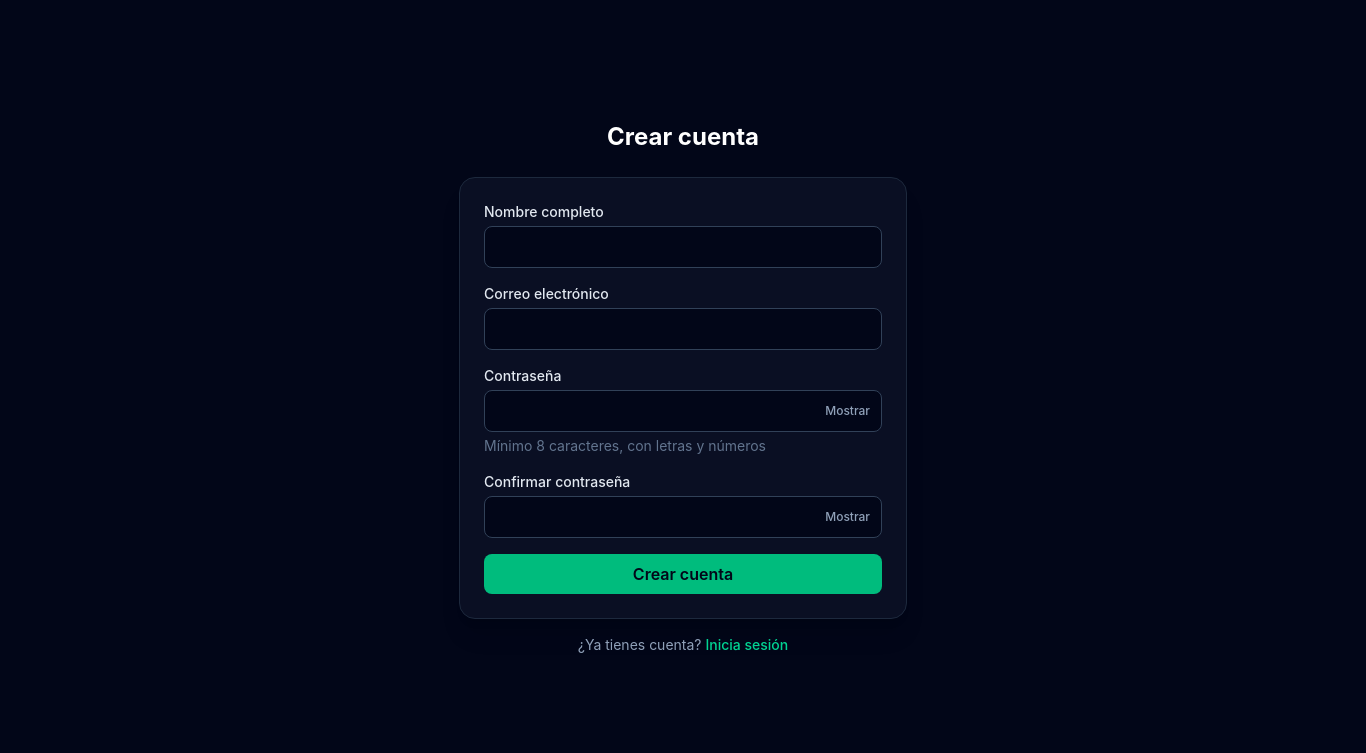
Test: rutas y sesión › registrarse desde la interfaz lleva al dashboard con saldo $0.00
In the field labelled "Nombre completo": {"x": 683, "y": 247} [484,226,882,268], type "Ana Pérez"
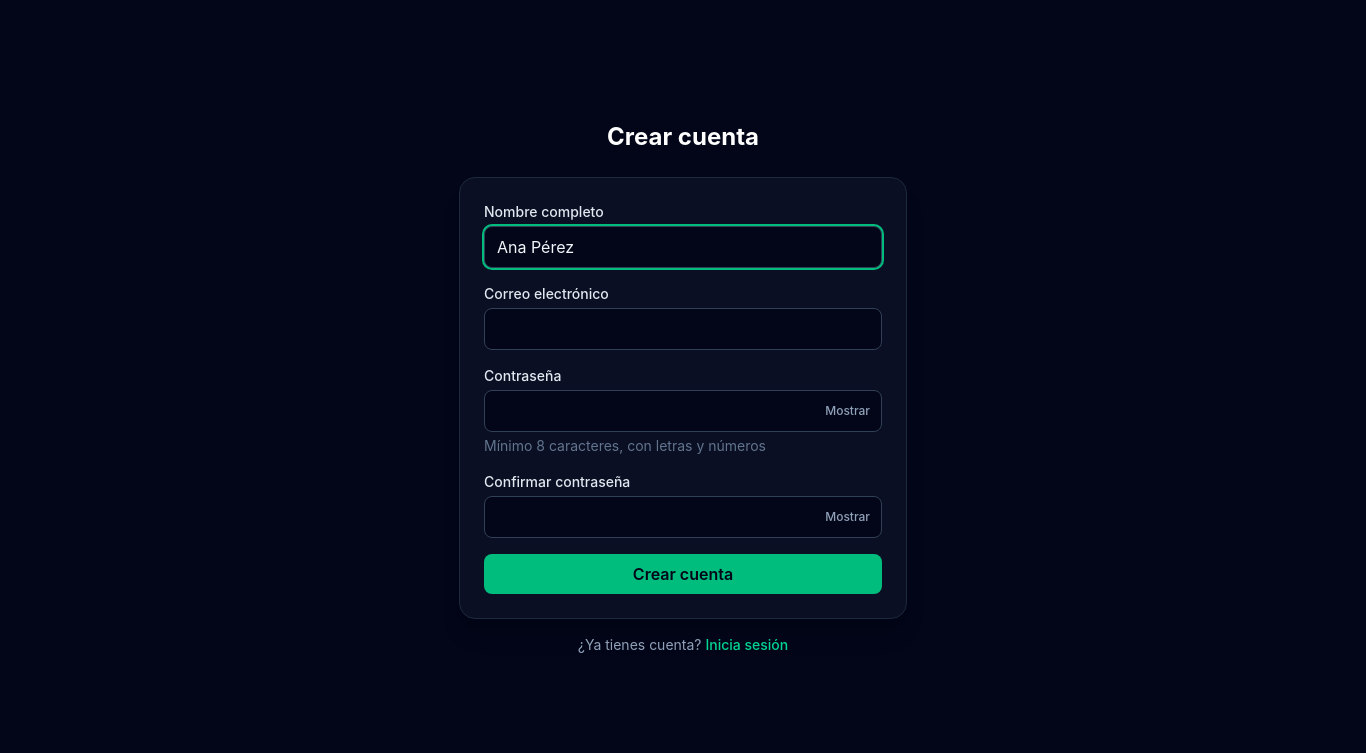
In the field labelled "Correo electrónico": {"x": 683, "y": 329} [484,308,882,350], type "ana@example.com"
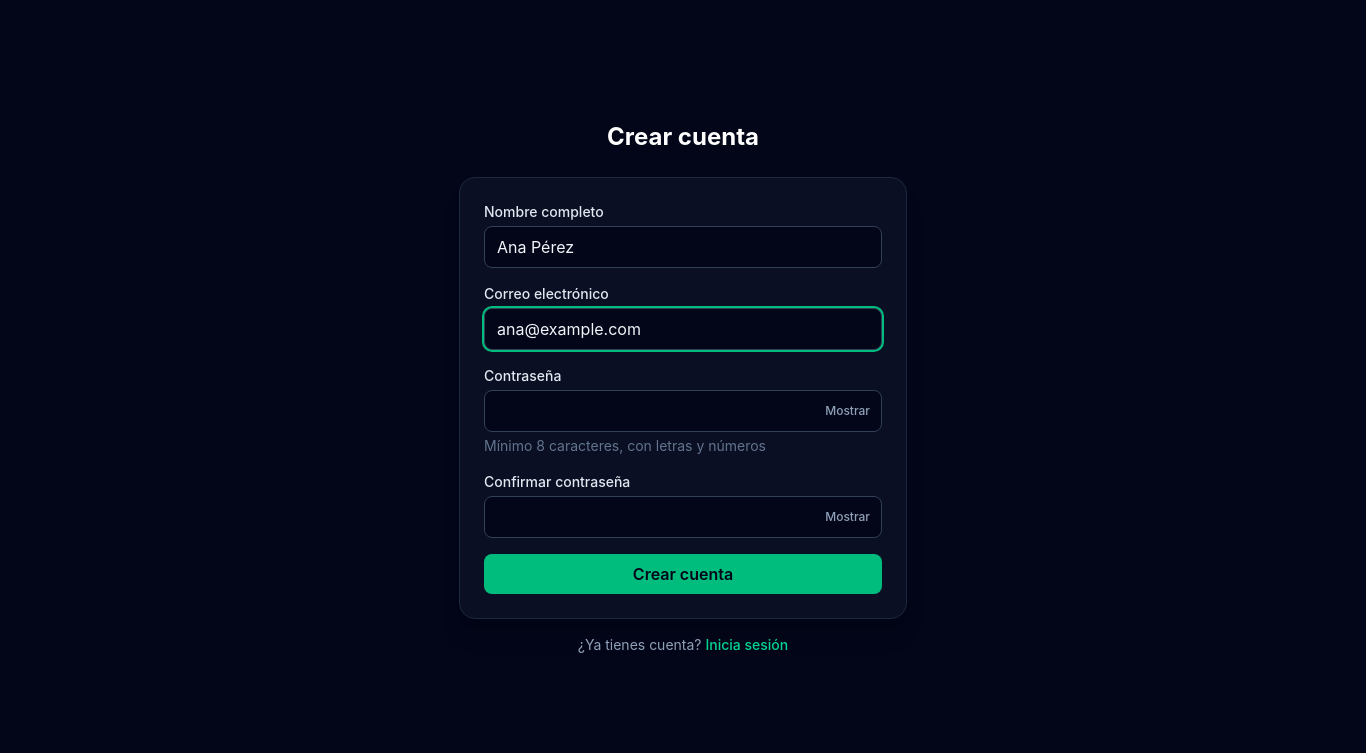
In the password field labelled "Contraseña": {"x": 683, "y": 411} [484,390,882,432], type "Caracol123"
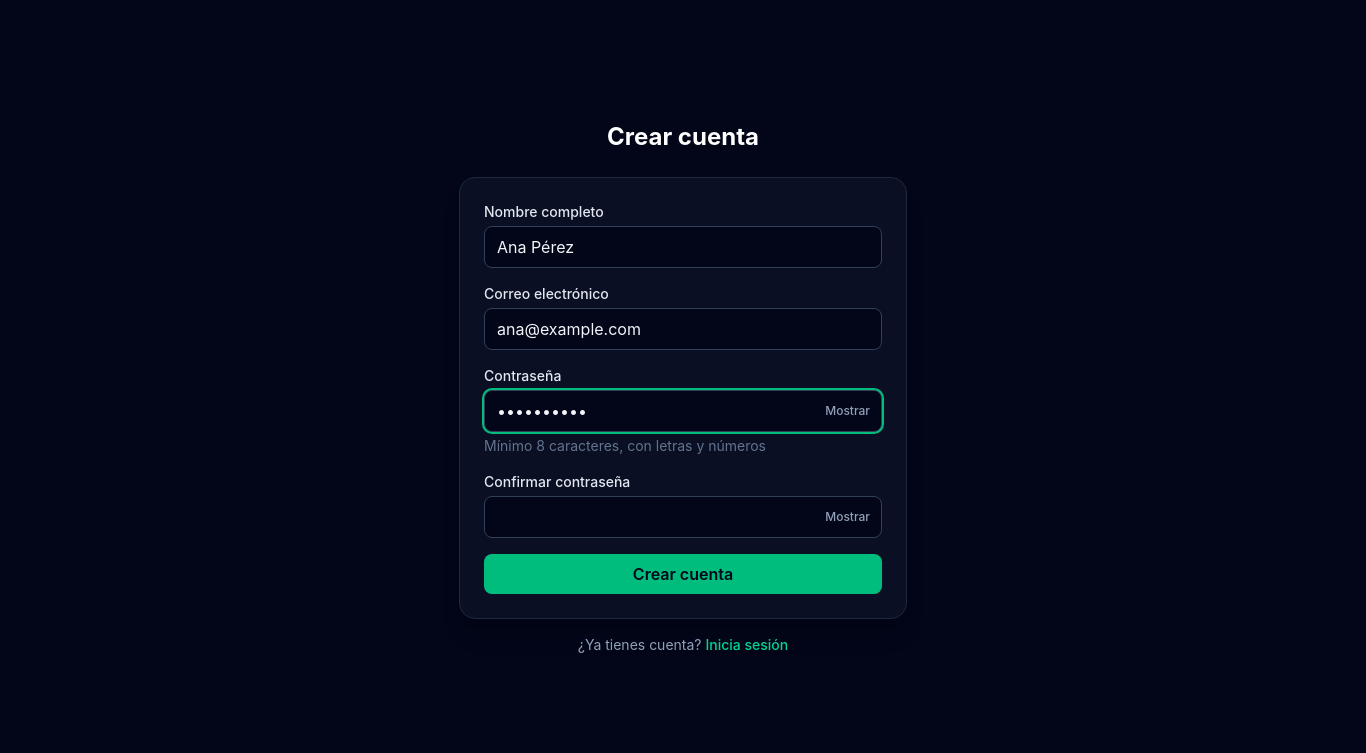
In the password field labelled "Confirmar contraseña": {"x": 683, "y": 517} [484,496,882,538], type "Caracol123"
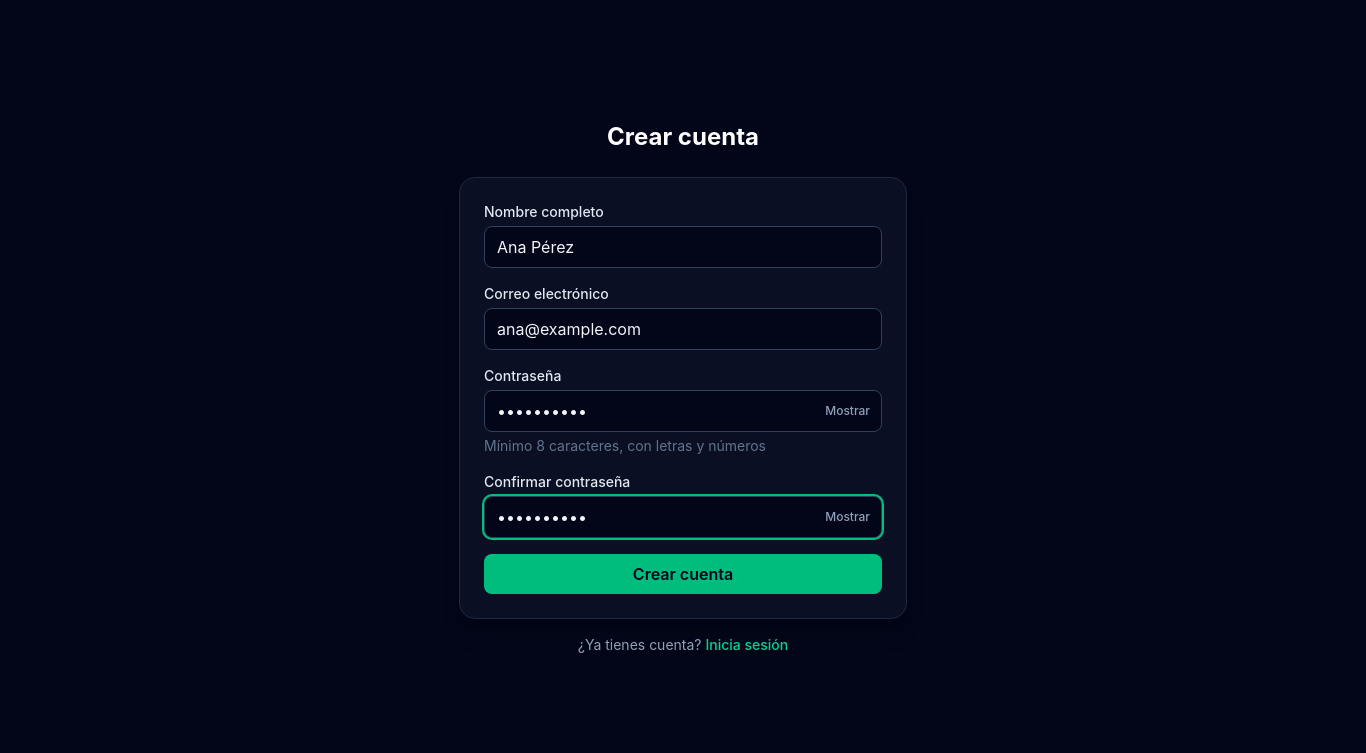
Click the button "Crear cuenta": {"x": 683, "y": 574} [484,554,882,594]
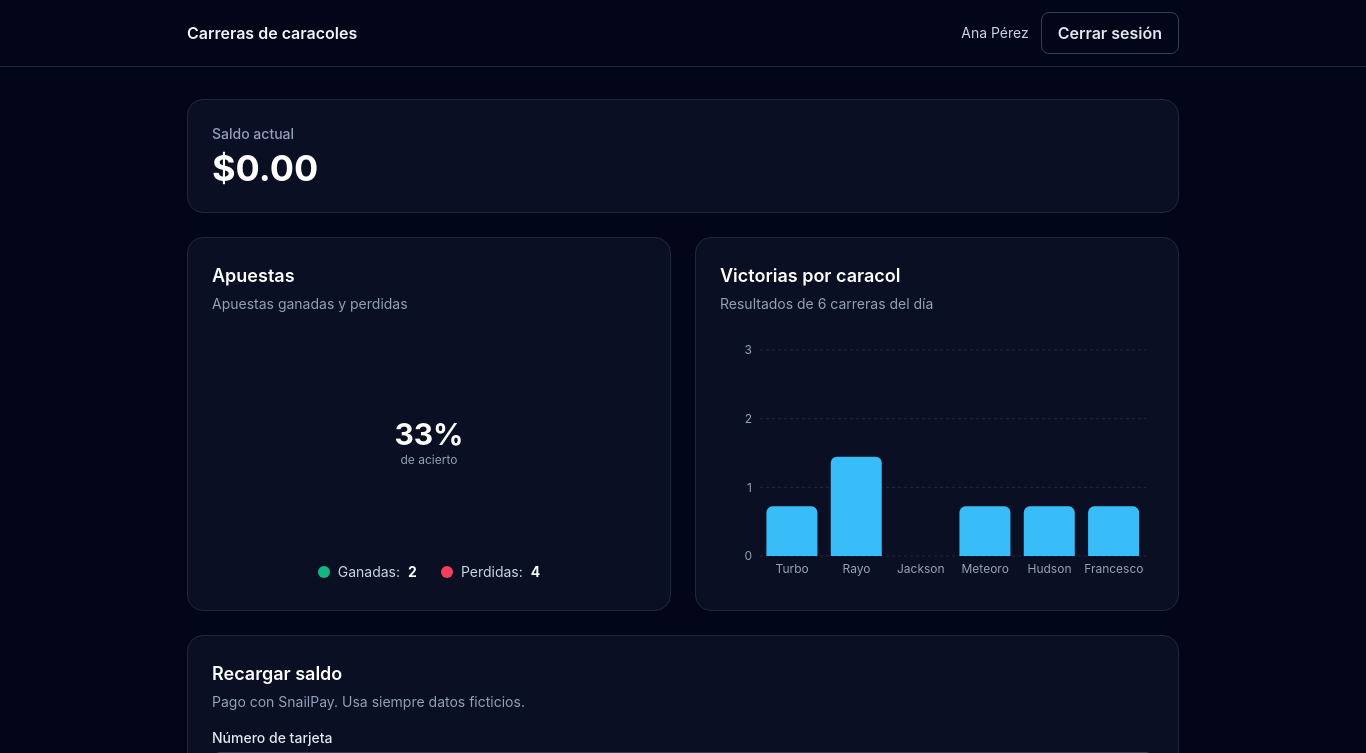
Expected: the text "Ana Pérez" is shown, [961,23,1029,43]
Expected: the text "$0.00" is shown, [212,146,318,190]
